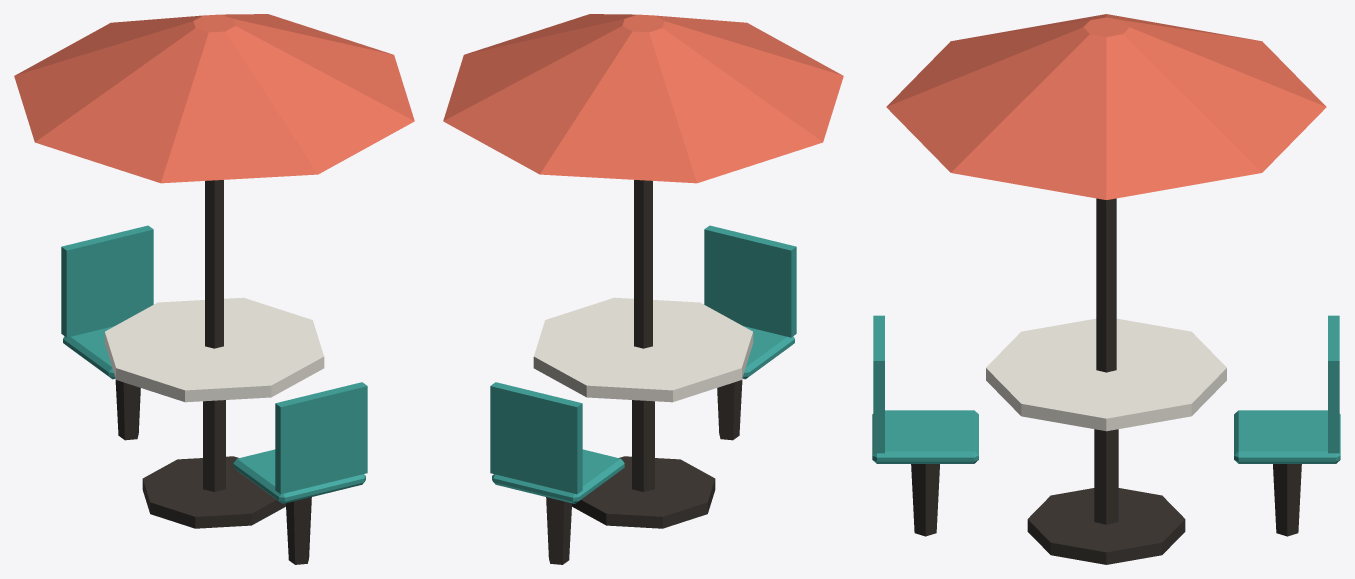
The model's file is cafe_set.glb.
The picture shows the model from 3 angles, left to right: view 1: azimuth 30°, elevation 25°; view 2: azimuth 150°, elevation 25°; view 3: azimuth 270°, elevation 25°; orthographic projection. The views are drawn at different scales.
Visible parts, largest first — view 1: cafe_set_canopy, cafe_set_tabletop, cafe_set_back-1, cafe_set_back1, cafe_set_tablefoot, cafe_set_mast, cafe_set_seat-1, cafe_set_tablepost, cafe_set_chairpost-1, cafe_set_seat1, cafe_set_chairpost1; view 2: cafe_set_canopy, cafe_set_tabletop, cafe_set_back1, cafe_set_back-1, cafe_set_tablefoot, cafe_set_mast, cafe_set_seat1, cafe_set_tablepost, cafe_set_chairpost1, cafe_set_seat-1, cafe_set_chairpost-1; view 3: cafe_set_canopy, cafe_set_tabletop, cafe_set_tablefoot, cafe_set_seat-1, cafe_set_seat1, cafe_set_mast, cafe_set_tablepost, cafe_set_chairpost-1, cafe_set_chairpost1, cafe_set_back-1, cafe_set_back1.
Part boxes in pixels (<box>): cafe_set_canopy: <box>14,14,414,183</box>; cafe_set_tabletop: <box>104,297,324,402</box>; cafe_set_back-1: <box>275,382,367,494</box>; cafe_set_back1: <box>61,225,153,337</box>; cafe_set_tablefoot: <box>142,456,285,528</box>; cafe_set_mast: <box>205,180,223,348</box>; cafe_set_seat-1: <box>233,449,365,503</box>; cafe_set_tablepost: <box>203,400,225,491</box>; cafe_set_chairpost-1: <box>286,497,311,564</box>; cafe_set_seat1: <box>63,326,115,379</box>; cafe_set_chairpost1: <box>115,379,140,440</box>; cafe_set_canopy: <box>443,14,843,183</box>; cafe_set_tabletop: <box>533,297,753,402</box>; cafe_set_back1: <box>490,382,582,494</box>; cafe_set_back-1: <box>704,225,796,337</box>; cafe_set_tablefoot: <box>572,456,715,528</box>; cafe_set_mast: <box>634,180,652,348</box>; cafe_set_seat1: <box>492,449,624,503</box>; cafe_set_tablepost: <box>632,400,654,491</box>; cafe_set_chairpost1: <box>546,497,571,564</box>; cafe_set_seat-1: <box>742,326,794,379</box>; cafe_set_chairpost-1: <box>717,379,742,440</box>; cafe_set_canopy: <box>886,14,1326,199</box>; cafe_set_tabletop: <box>986,318,1226,431</box>; cafe_set_tablefoot: <box>1027,488,1185,564</box>; cafe_set_seat-1: <box>872,410,978,463</box>; cafe_set_seat1: <box>1234,410,1340,463</box>; cafe_set_mast: <box>1096,198,1116,372</box>; cafe_set_tablepost: <box>1094,429,1118,524</box>; cafe_set_chairpost-1: <box>911,464,939,536</box>; cafe_set_chairpost1: <box>1273,464,1301,536</box>; cafe_set_back-1: <box>873,315,884,453</box>; cafe_set_back1: <box>1328,315,1339,453</box>.
Size of the model in its own units: 1.9 by 2.4 by 2.02.
